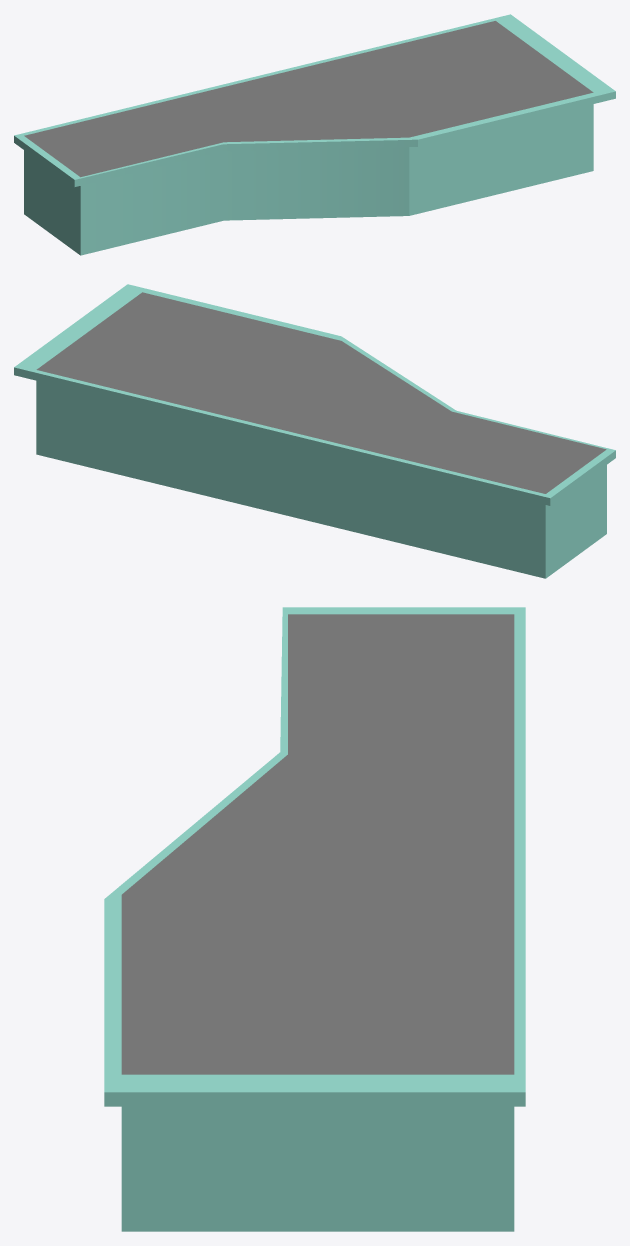
The model's file is world04.fbx.
3 renders of one model, top to bottom at view 1: azimuth 30°, elevation 25°; view 2: azimuth 150°, elevation 25°; view 3: azimuth 270°, elevation 25°, orthographic. The views are drawn at different scales.
Parts seen in each view (by area): view 1: Box002; view 2: Box002; view 3: Box002.
Boxes of the visible parts, x1,y1,x2,y2 form: Box002: (14,14,615,255); Box002: (14,284,615,578); Box002: (104,607,525,1231).
Bounding box in the file's own units: 9034 × 1362 × 3317.
